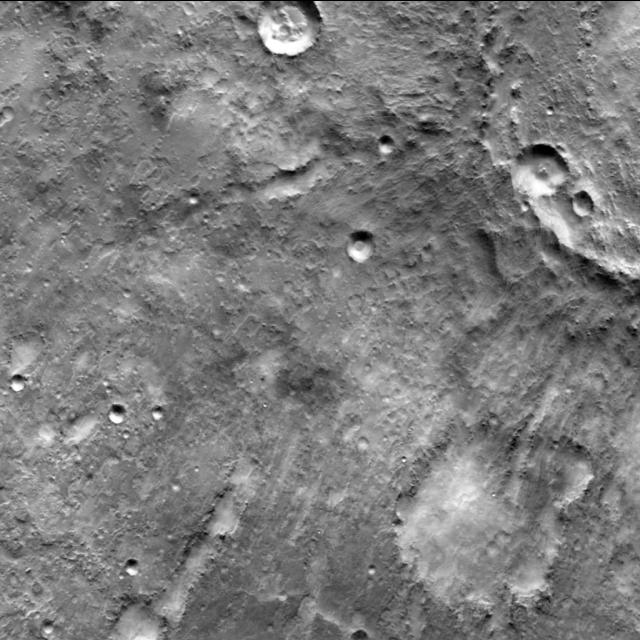crater: (398, 428, 568, 612), (530, 438, 594, 508), (256, 0, 319, 59), (514, 145, 565, 201), (110, 603, 162, 640), (5, 334, 45, 378), (182, 535, 218, 575), (206, 497, 241, 535), (226, 461, 260, 499), (345, 232, 374, 263), (598, 484, 622, 510), (570, 194, 592, 218), (376, 138, 394, 158), (108, 406, 124, 426), (8, 377, 24, 395), (124, 562, 138, 578), (492, 534, 507, 548), (484, 544, 498, 558), (150, 409, 162, 424), (40, 622, 52, 636), (186, 195, 198, 208), (182, 6, 193, 18), (360, 441, 370, 451), (518, 204, 528, 214), (366, 569, 374, 577), (121, 292, 129, 300), (121, 434, 129, 442), (545, 109, 553, 117), (41, 282, 48, 290)
